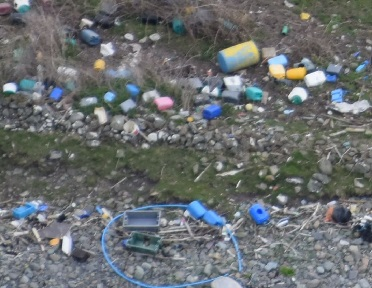scattered_barrel: (271, 1, 315, 37)
together_barrel: (197, 37, 372, 119), (1, 199, 165, 273), (189, 193, 372, 244), (1, 76, 176, 126), (63, 11, 122, 72)
tube: (131, 189, 188, 221), (107, 256, 157, 288), (92, 227, 120, 269), (222, 236, 252, 273)
white_in_green: (159, 7, 198, 43)
